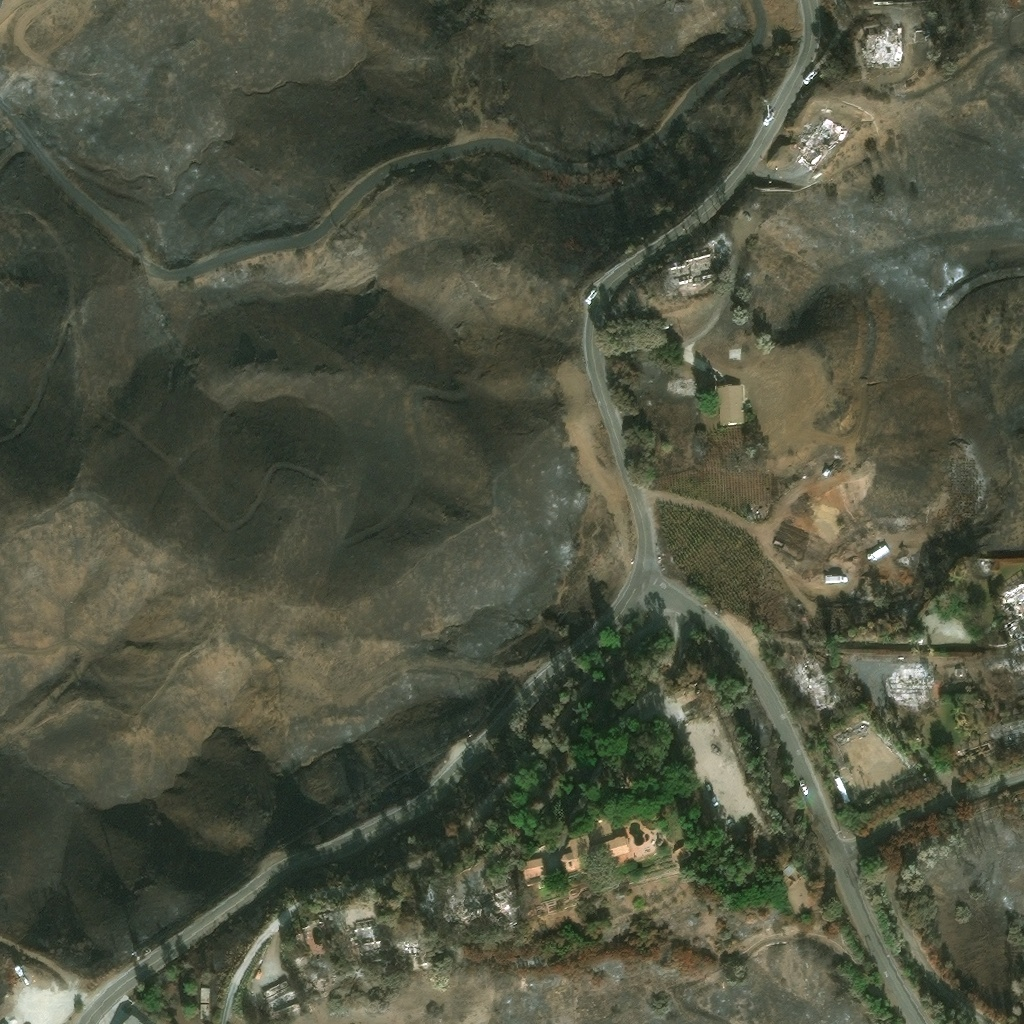0 no-damage: (557, 833, 597, 876), (716, 384, 746, 425), (600, 835, 629, 860), (521, 856, 546, 884), (832, 776, 852, 806), (796, 602, 810, 629), (779, 863, 796, 880), (120, 1012, 145, 1023), (615, 774, 633, 789), (200, 1002, 211, 1018), (200, 986, 211, 1002), (510, 848, 522, 859)
1 minor-damage: (261, 977, 297, 1009)
2 major-damage: (673, 681, 704, 707)
3 destroyed: (795, 115, 847, 171), (863, 24, 903, 64), (996, 578, 1023, 637), (344, 920, 386, 956), (886, 665, 927, 697), (480, 889, 515, 925), (708, 233, 736, 264), (452, 891, 480, 919), (1000, 719, 1023, 746), (397, 938, 421, 960), (671, 377, 698, 390), (851, 722, 870, 739), (292, 929, 307, 948), (835, 731, 852, 747), (316, 909, 332, 923), (311, 975, 328, 988), (913, 30, 926, 42), (878, 524, 886, 531), (860, 525, 866, 532)
